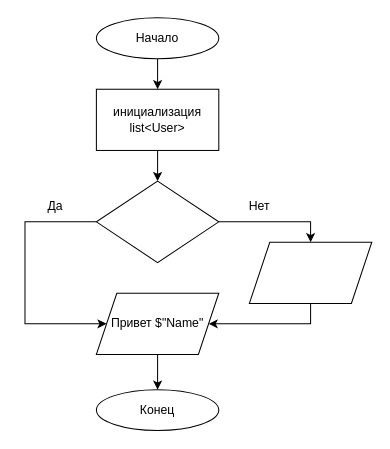
This 390x449 diagram has some shape labels left out. The centre of each missing label's shape, as x and y in pixels:
"IsPremium == true" belongs at pixel 157 221.
"ShowAds()" belongs at pixel 310 272.
